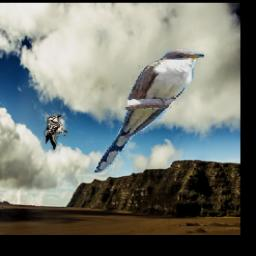Cuckoo: (94, 49, 205, 173)
Woodpecker: (42, 113, 67, 150)
